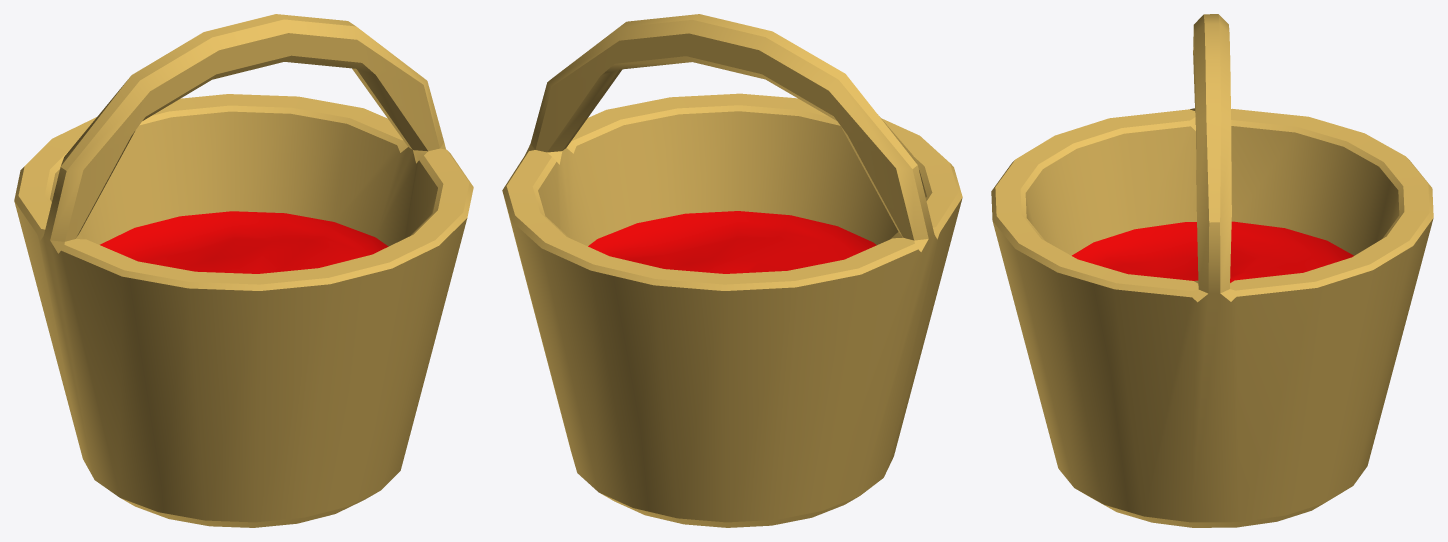
Rendered from bugget_red.fbx.
3 views of the same model, side by side, from view 1: azimuth 30°, elevation 25°; view 2: azimuth 150°, elevation 25°; view 3: azimuth 270°, elevation 25° (orthographic). The views are drawn at different scales.
Visible parts, largest first — view 1: pCylinder2; view 2: pCylinder2; view 3: pCylinder2.
Boxes of the visible parts, x1,y1,x2,y2 form: pCylinder2: [14, 14, 473, 527]; pCylinder2: [502, 14, 962, 527]; pCylinder2: [991, 14, 1433, 527].
Bounding box in the file's own units: 102 × 109 × 102.
